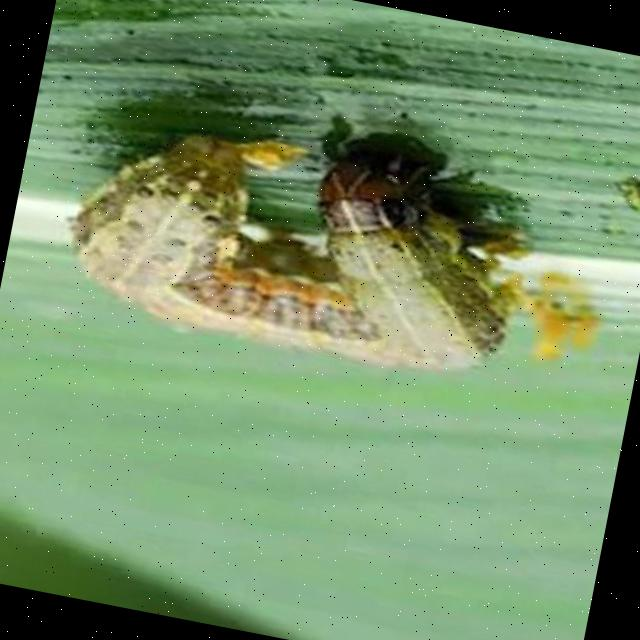worm: (51, 94, 551, 398)
